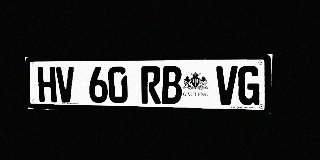0: (108, 66, 128, 103)
6: (88, 66, 108, 103)
B: (162, 66, 182, 104)
G: (238, 66, 260, 105)
H: (37, 67, 57, 102)
R: (141, 66, 161, 104)
V: (216, 66, 238, 105), (56, 67, 75, 103)
